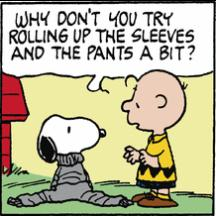charlie: (119, 66, 188, 208)
snoopy: (33, 107, 110, 165)
